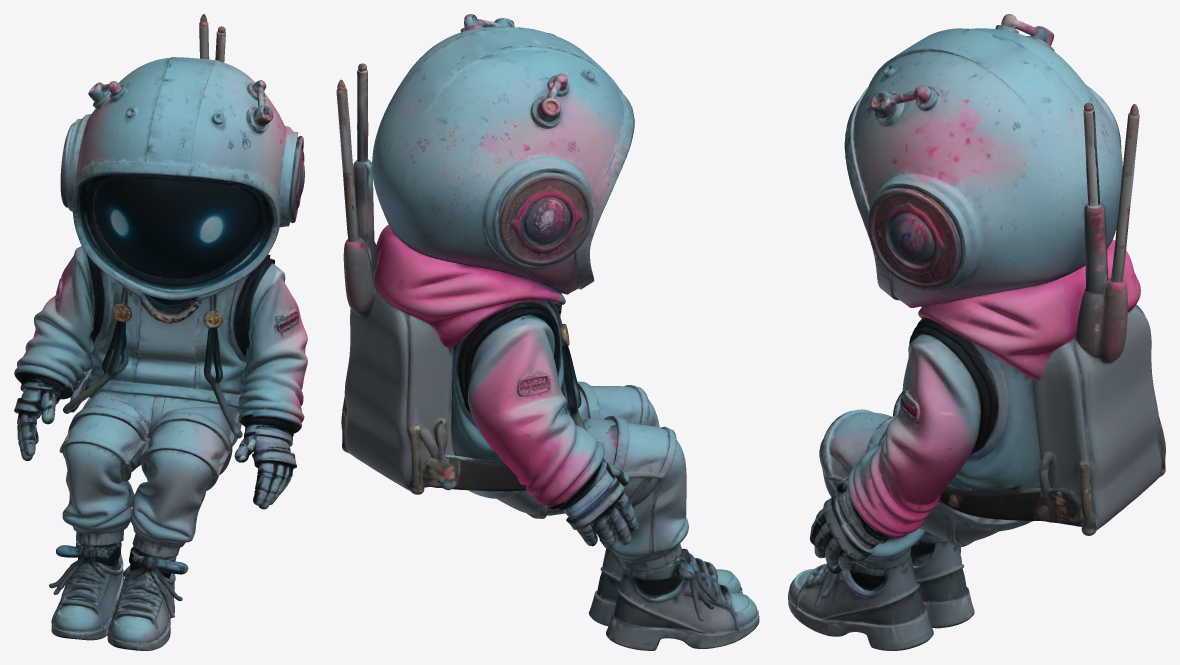
File: astronaut-optimized.glb
3 renders of one model, left to right at view 1: azimuth 30°, elevation 25°; view 2: azimuth 150°, elevation 25°; view 3: azimuth 270°, elevation 25°, orthographic. The views are drawn at different scales.
Visible parts, largest first — view 1: texture_pbr_v128; view 2: texture_pbr_v128; view 3: texture_pbr_v128.
Boxes of the visible parts, x1,y1,x2,y2 form: texture_pbr_v128: (14,14,307,650); texture_pbr_v128: (336,14,759,650); texture_pbr_v128: (788,14,1165,650).
Bounding box in the file's own units: 0.596 × 1.03 × 0.5503.
1 material, 1 textured.
